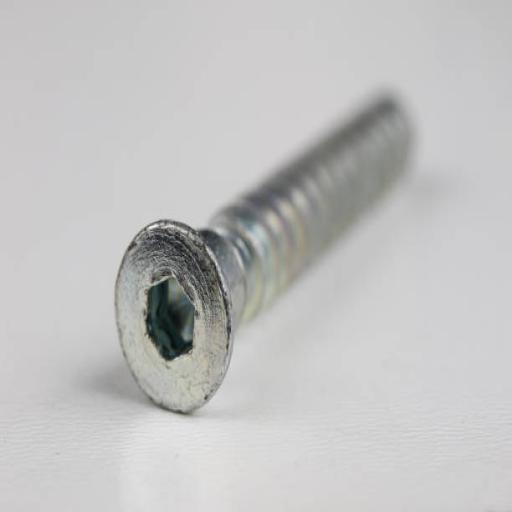Hex-Allen: (114, 218, 234, 418)
